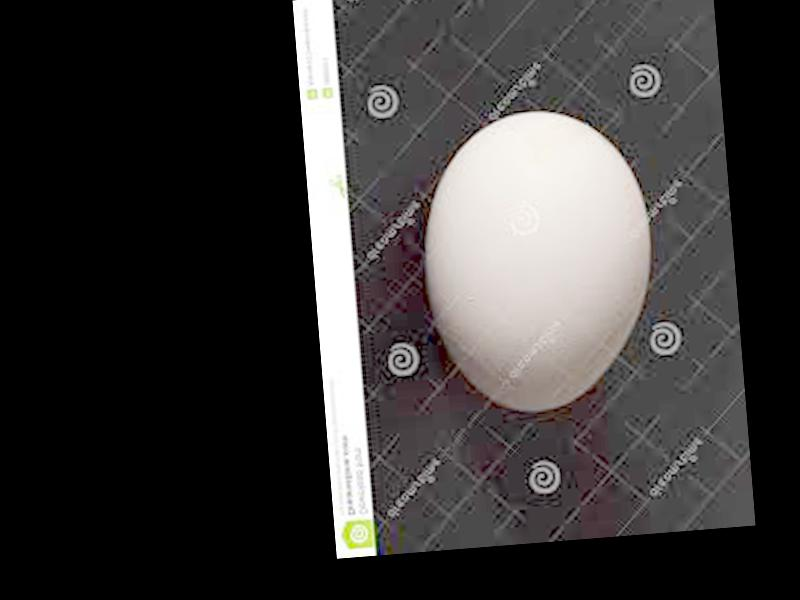Eggs: (415, 101, 662, 419)
